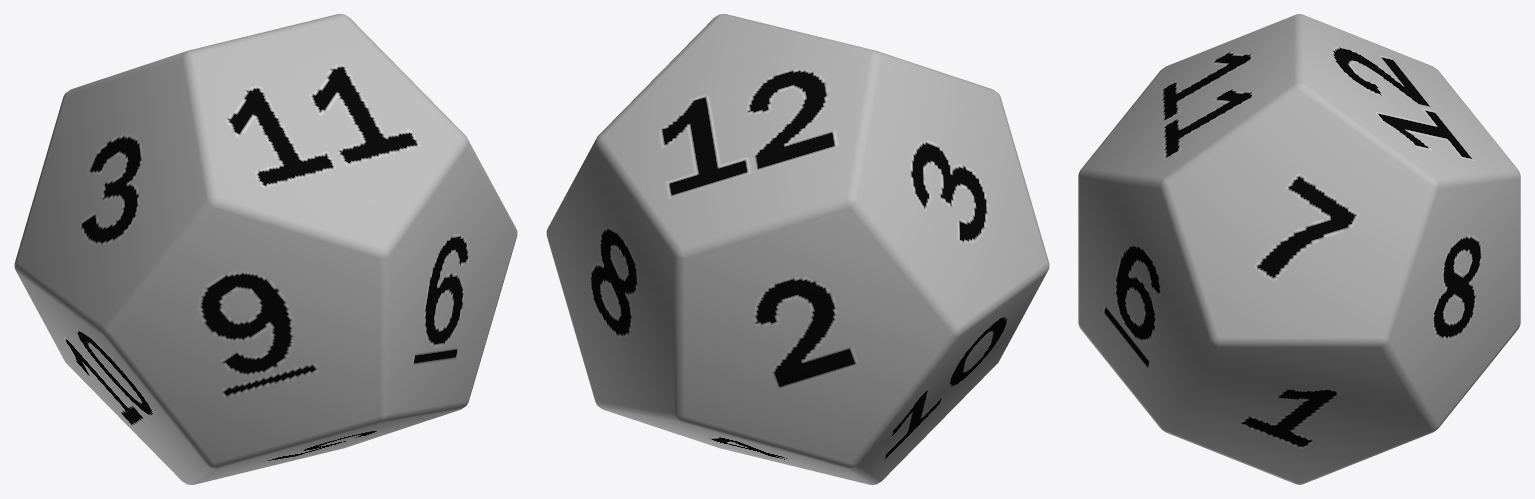
3 views of the same model, side by side, from view 1: azimuth 30°, elevation 25°; view 2: azimuth 150°, elevation 25°; view 3: azimuth 270°, elevation 25° (orthographic). The views are drawn at different scales.
Visible parts, largest first — view 1: 12Silver_12Silver_0; view 2: 12Silver_12Silver_0; view 3: 12Silver_12Silver_0.
Boxes of the visible parts, bbox=[...] form: 12Silver_12Silver_0: bbox=[14, 14, 517, 484]; 12Silver_12Silver_0: bbox=[546, 14, 1049, 484]; 12Silver_12Silver_0: bbox=[1078, 14, 1520, 484].
Bounding box in the file's own units: 1.85 × 1.85 × 1.85.
Materials: 1 (1 with a texture image).
